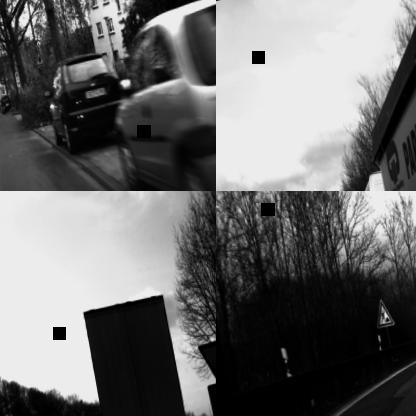CONSTRUCTION: (372, 296, 394, 328)
give way: (196, 338, 216, 382)
priority at next intersection: (32, 47, 46, 67)
